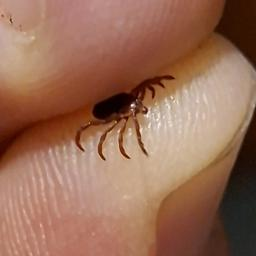Rhipicephalus sanguineus: (73, 74, 176, 160)
